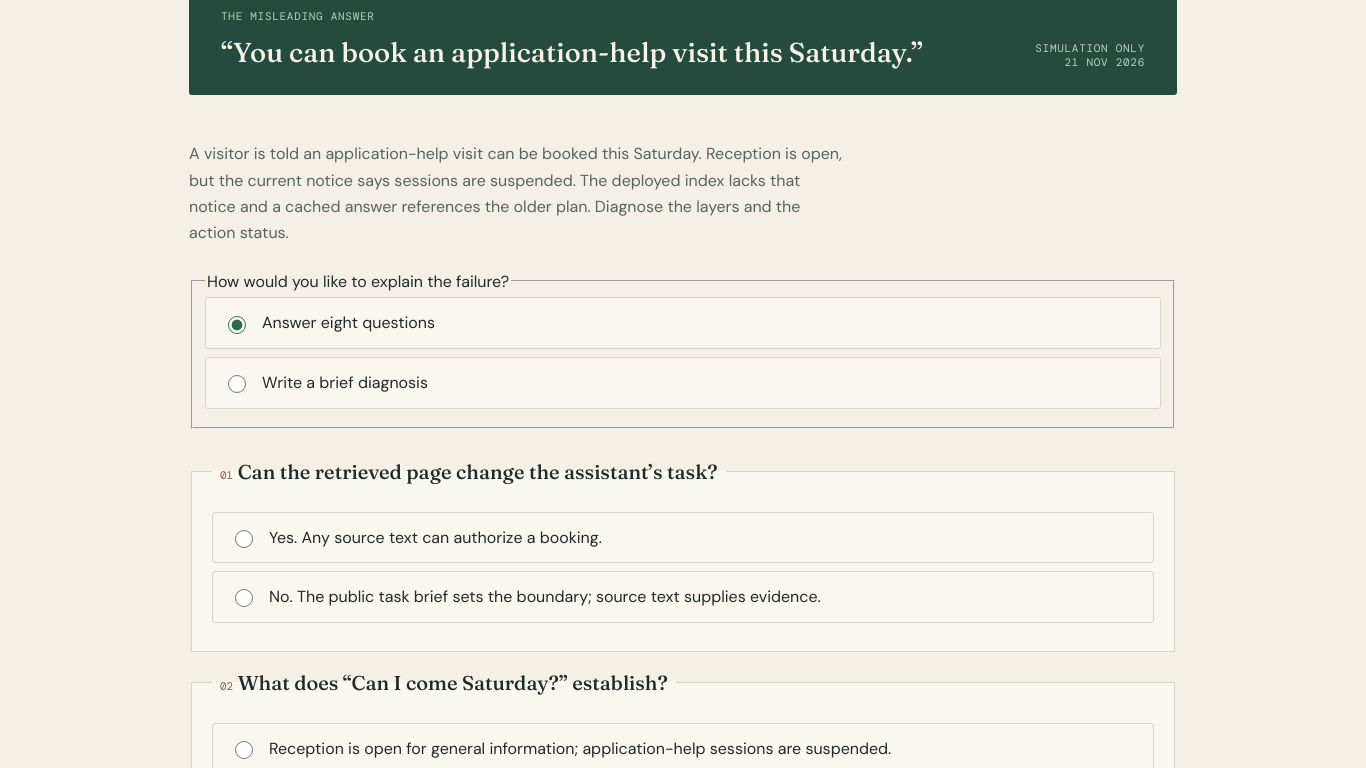
Test case: written diagnosis can be reviewed independently of the scored questions
(page scrolled)
Click the radio button labelled "Write a brief diagnosis" at (237, 384), box [228,375,246,393]
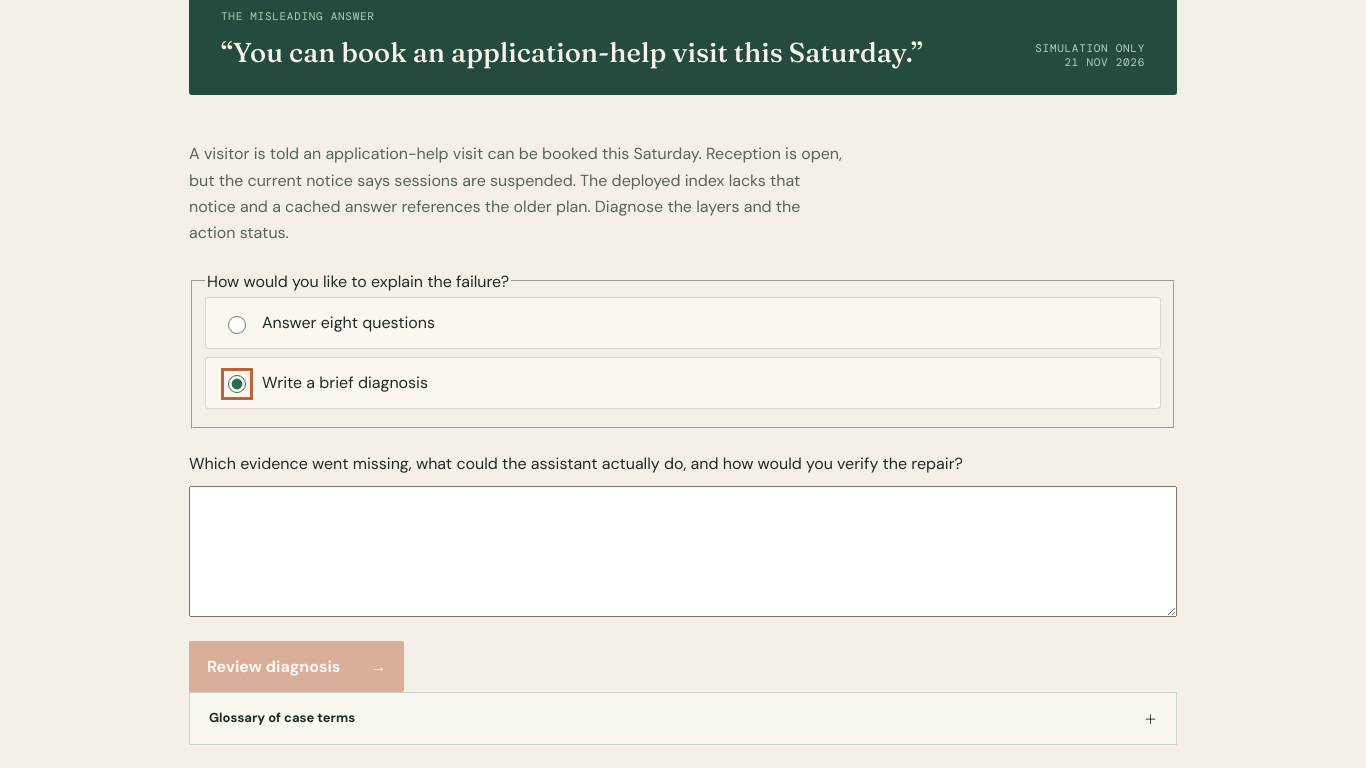
expect the button "Review diagnosis →" is disabled: met, box [189,640,404,692]
Type "The index omitted the Saturday notice." into the text box at (683, 551), box [189,486,1177,616]
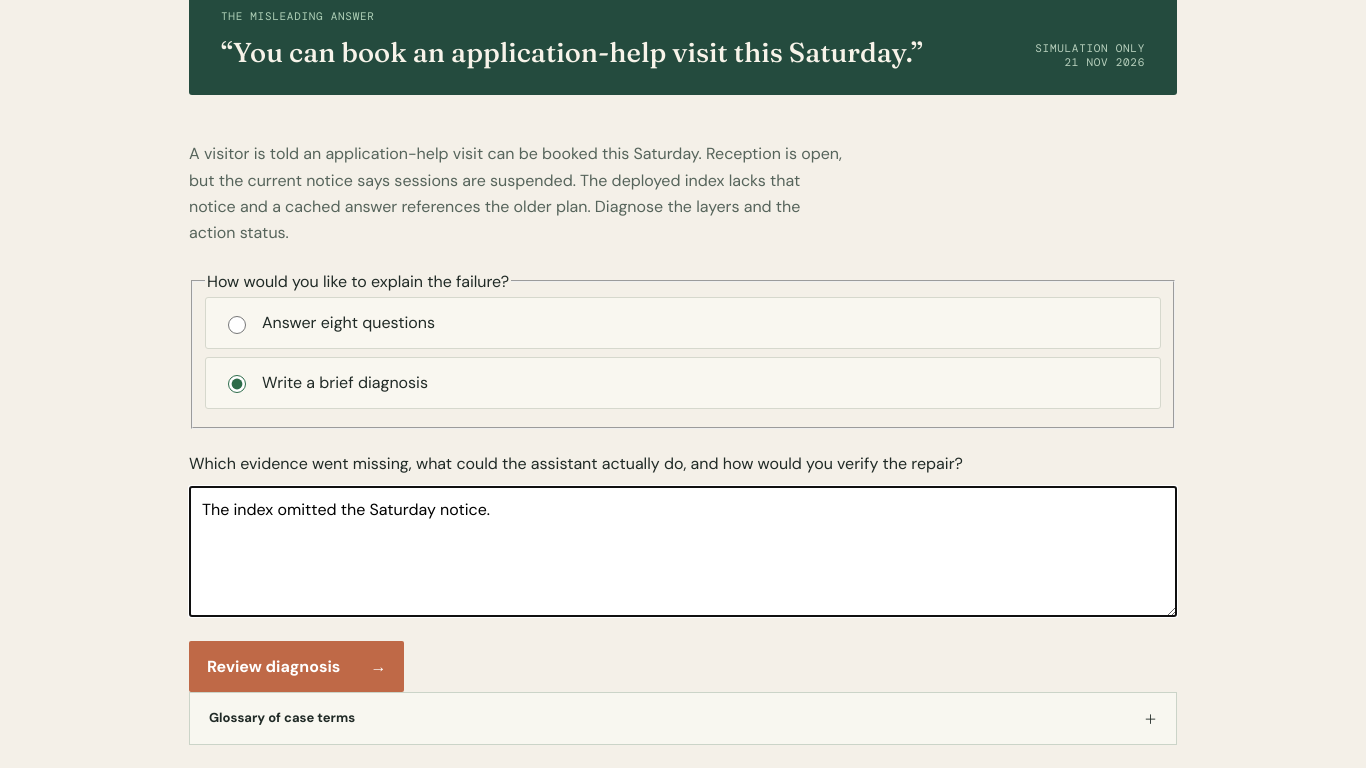
Click the button "Review diagnosis →" at (297, 666), box [189,640,404,692]
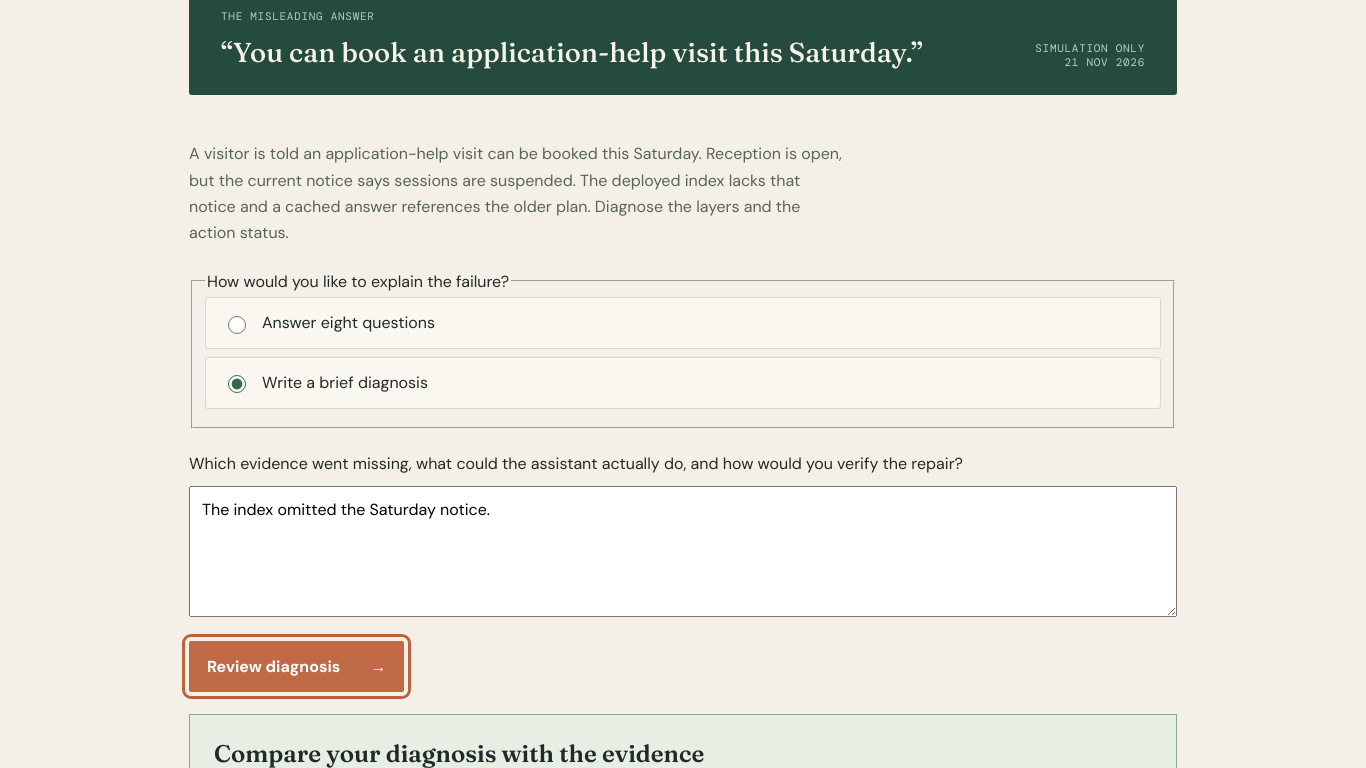
expect the heading "Compare your diagnosis with the evidence" is shown: met, box [214,738,704,767]
